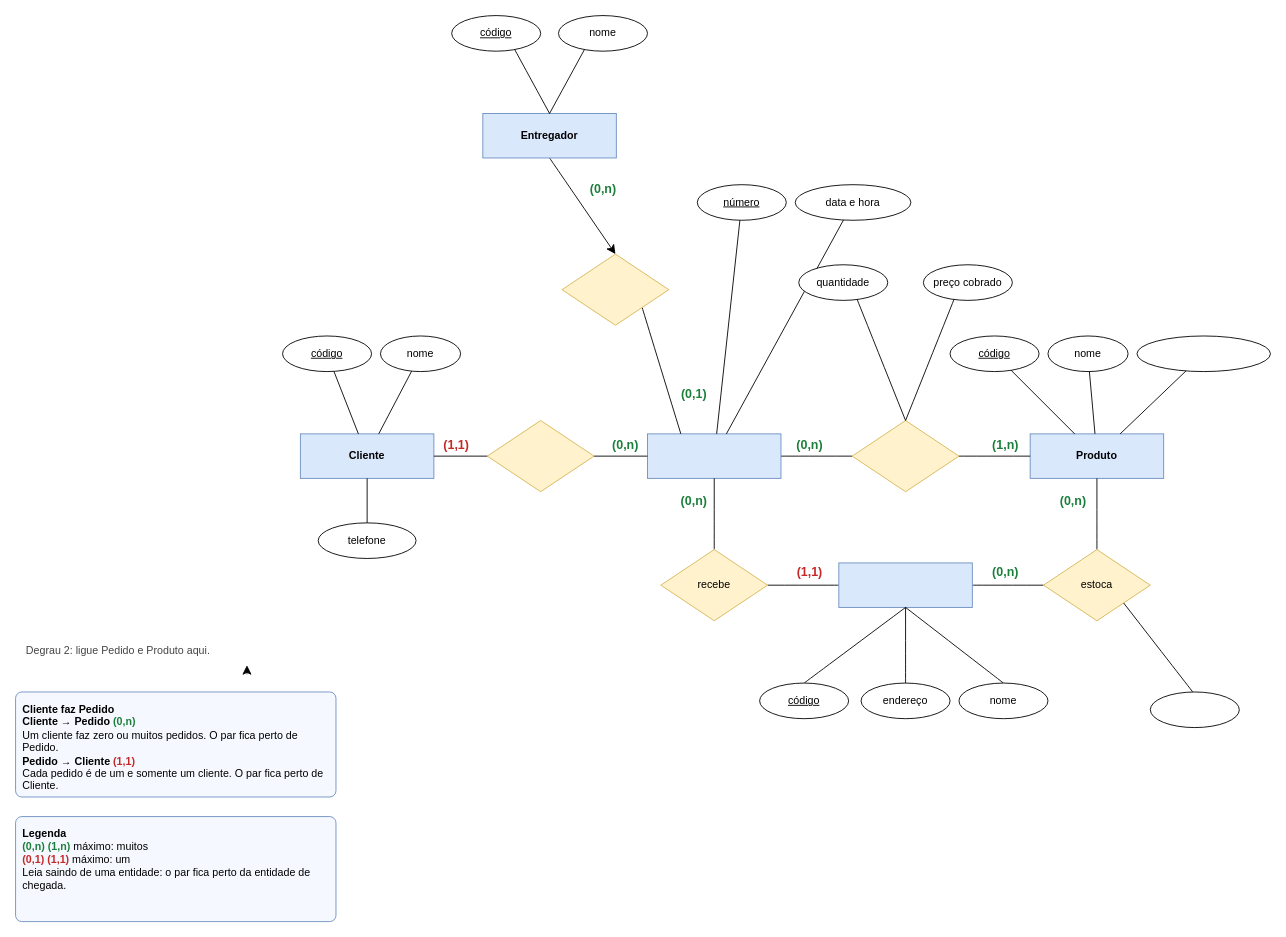
Image size: 1286x937. Some labels were removed from this diagram. Each missing label, with the centre of its shape:
"contém" goes at pixel 905 456.
"entrega" goes at pixel 615 289.
"faz" goes at pixel 540 456.
"Pedido" goes at pixel 714 455.
"preço de tabela" goes at pixel 1203 353.
"quantidade em estoque" goes at pixel 1194 709.
"Unidade" goes at pixel 905 584.
